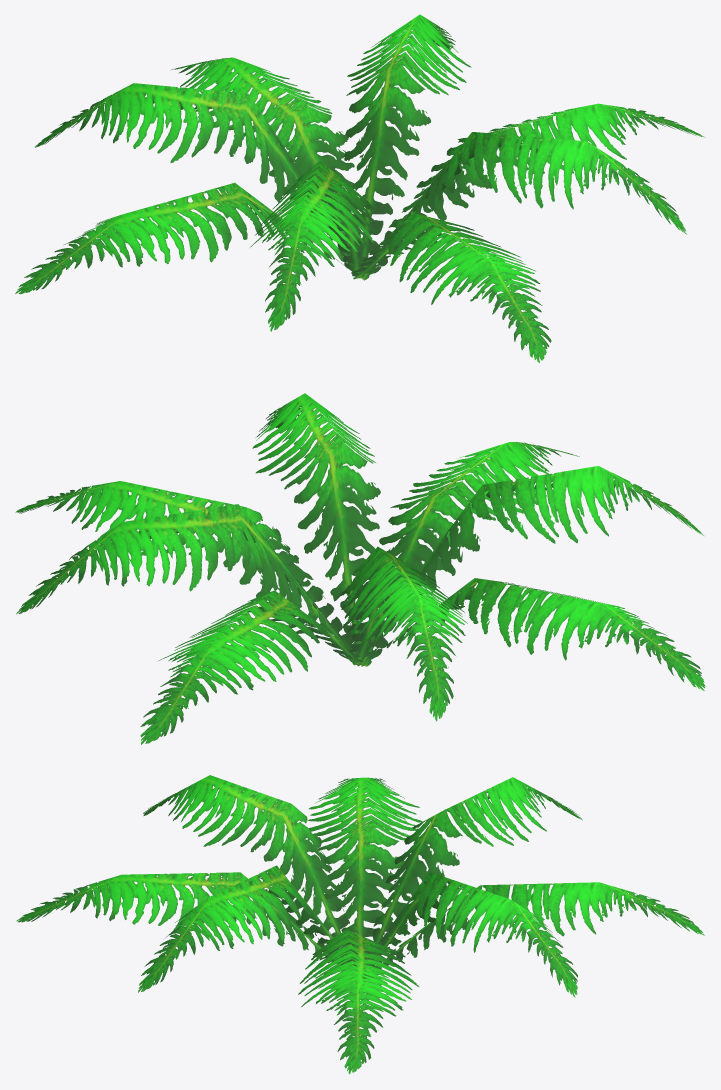
The model's file is bush03.obj.
3 renders of one model, top to bottom at view 1: azimuth 30°, elevation 25°; view 2: azimuth 150°, elevation 25°; view 3: azimuth 270°, elevation 25°, orthographic. The views are drawn at different scales.
Visible parts, largest first — view 1: Duplicate03, Duplicate02, Triangles, Duplicate01; view 2: Duplicate03, Duplicate02, Triangles, Duplicate01; view 3: Duplicate03, Duplicate02, Triangles, Duplicate01.
Part boxes in pixels (left/top/right/bottom): Duplicate03: left=35, top=14, right=686, bottom=331; Duplicate02: left=170, top=57, right=551, bottom=362; Triangles: left=15, top=182, right=348, bottom=294; Duplicate01: left=361, top=103, right=705, bottom=280; Duplicate03: left=16, top=393, right=703, bottom=721; Duplicate02: left=140, top=442, right=579, bottom=744; Triangles: left=366, top=578, right=705, bottom=690; Duplicate01: left=15, top=481, right=359, bottom=665; Duplicate03: left=138, top=775, right=582, bottom=997; Duplicate02: left=16, top=872, right=704, bottom=977; Triangles: left=308, top=777, right=422, bottom=959; Duplicate01: left=298, top=929, right=418, bottom=1074.
Bounding box in the file's own units: 62.5 × 14.5 × 62.46.
